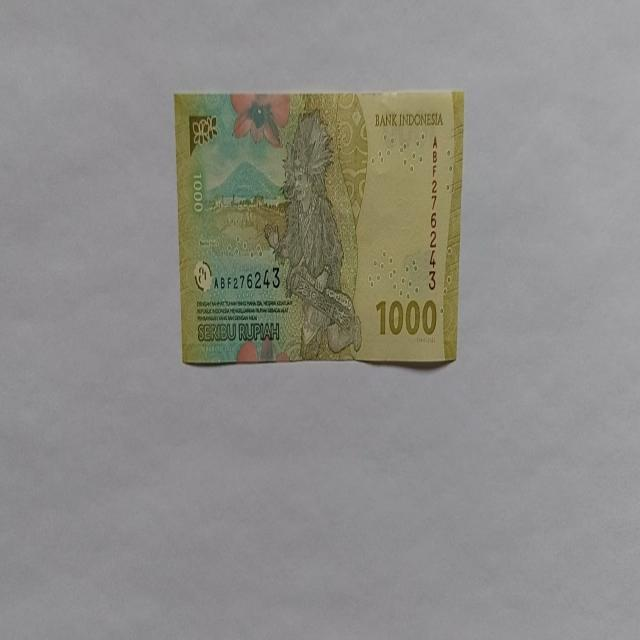seribu rupiah kertas: (173, 88, 464, 366)
